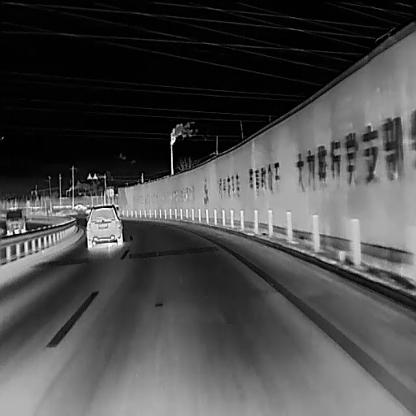car: (85, 203, 122, 249)
truck: (4, 208, 27, 233)
